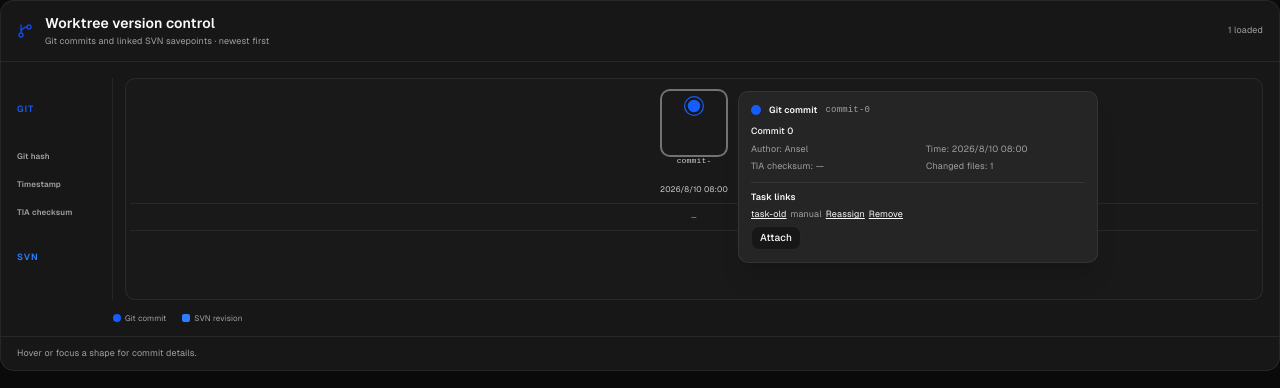
Test: WorktreeVersionControlTimeline › attaches with the selected event identity and reloads detail after a successful reassign
The width and height of the screenshot is (1280, 388).
Click the button with aria-label "Attach task to commit-0": (776, 238) [751,226,801,250]
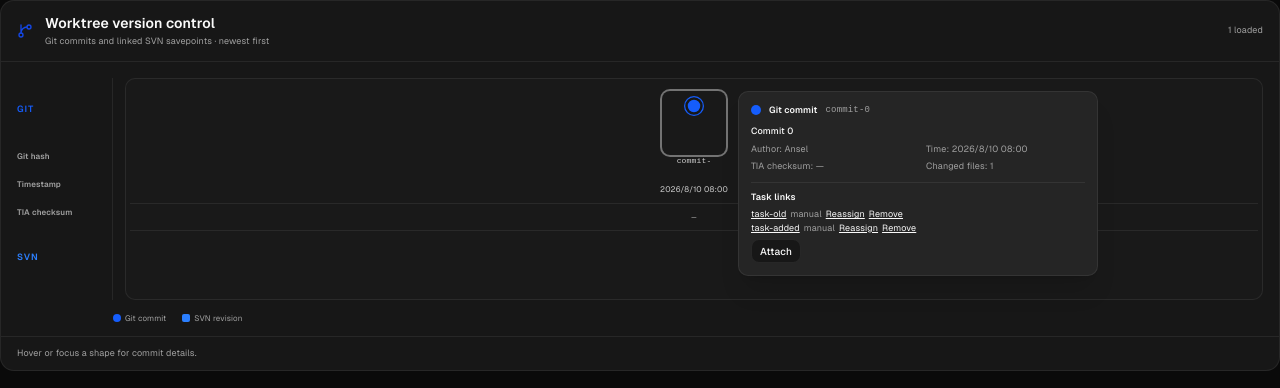
Click the button with aria-label "Reassign task task-old from commit-0": (845, 215) [826,208,865,222]
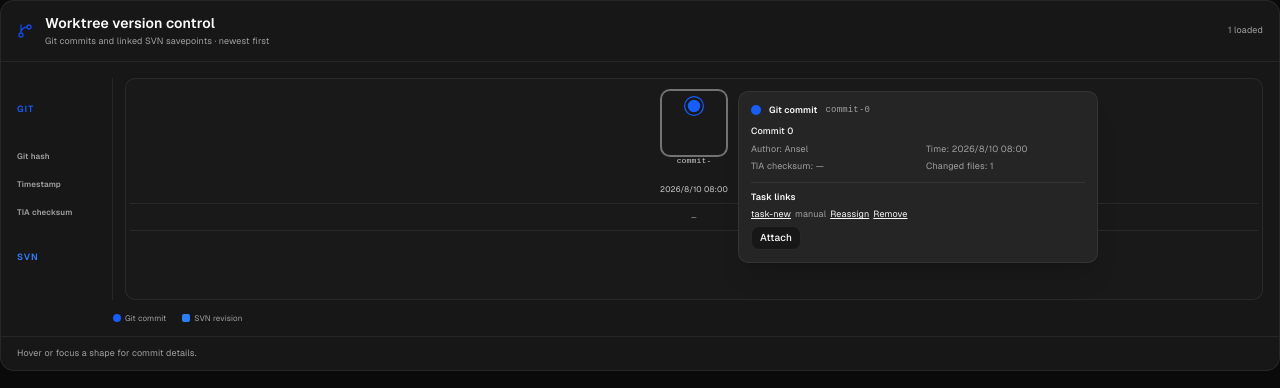
Expected: the text "task-new" is shown, [751,208,791,222]
Expected: the text "task-old" is gone
